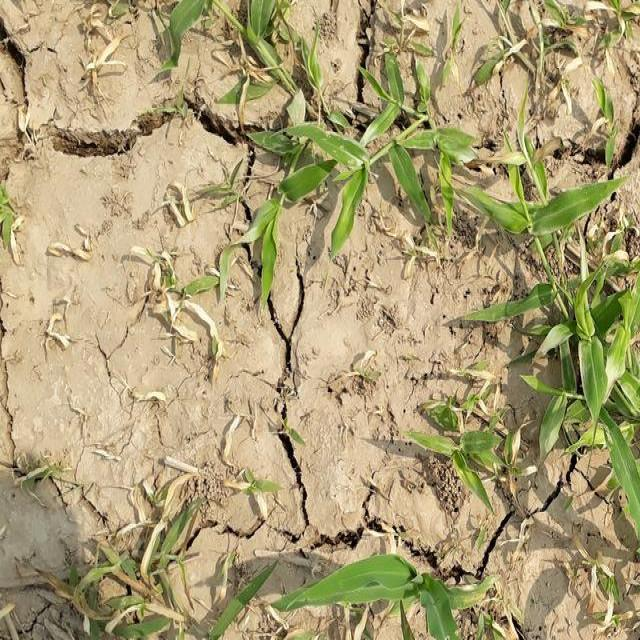weed: (470, 129, 640, 519), (231, 75, 466, 272), (286, 536, 503, 640)
